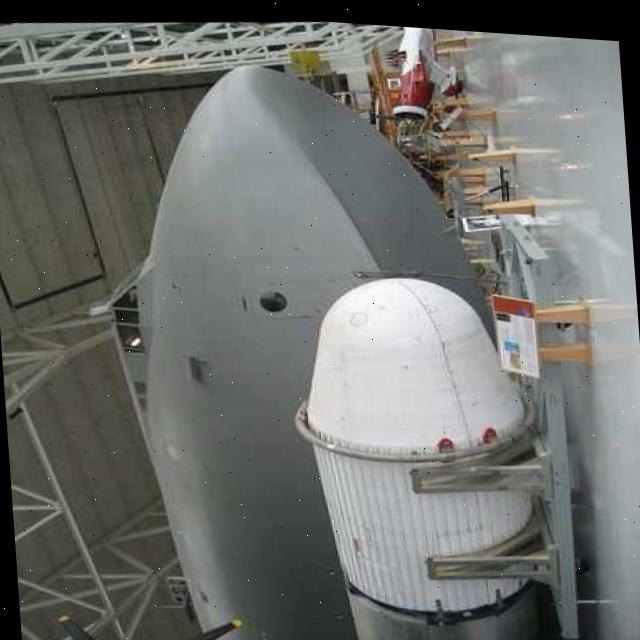missile: (277, 258, 539, 640)
